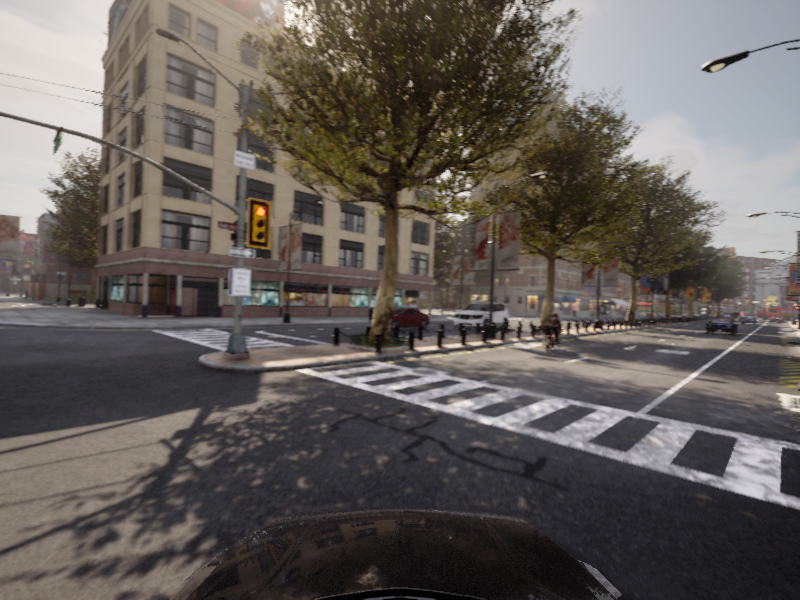vehicle: (449, 300, 512, 333), (367, 306, 434, 331), (538, 313, 568, 352), (704, 318, 738, 335)
